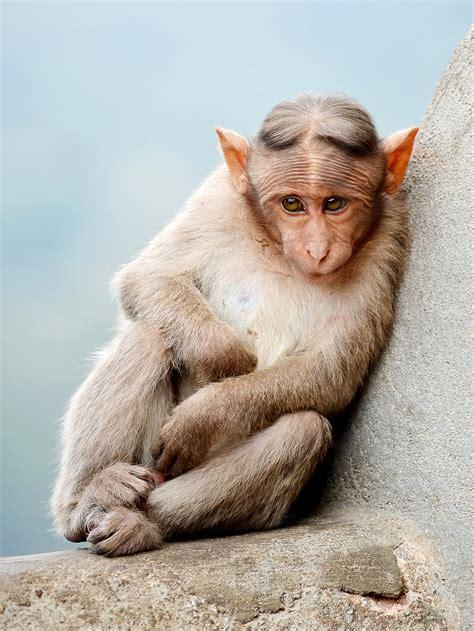monkey: (56, 95, 416, 554)
